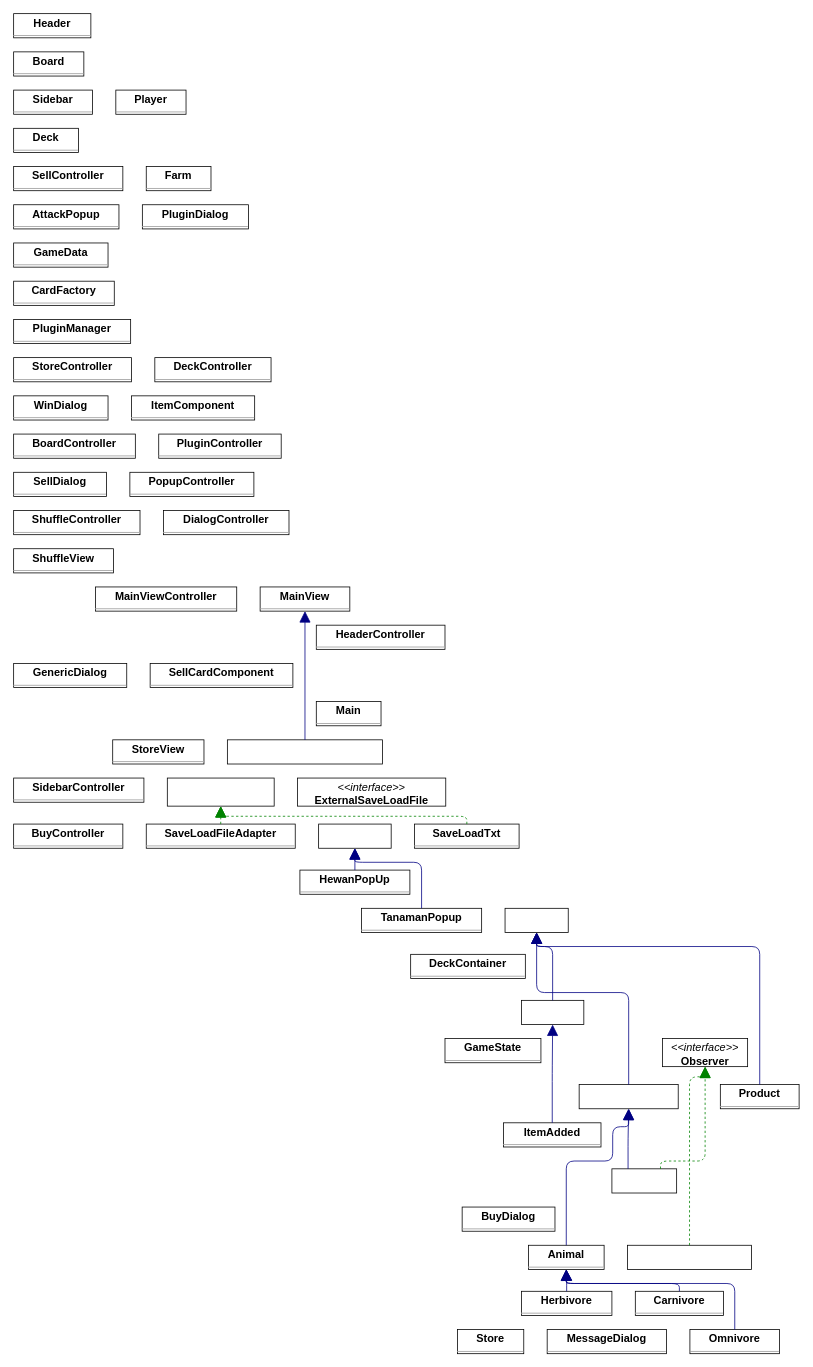
This 813x1367 diagram has some shape labels left out. Each missing label, with the centre of its shape:
<<interface>> SaveLoadFile: point (220, 791)
Card: point (536, 920)
CardComponent: point (689, 1256)
Item: point (552, 1012)
LivingBeing: point (628, 1096)
Plant: point (644, 1180)
Popup: point (354, 835)
SeranganBeruangView: point (305, 751)
